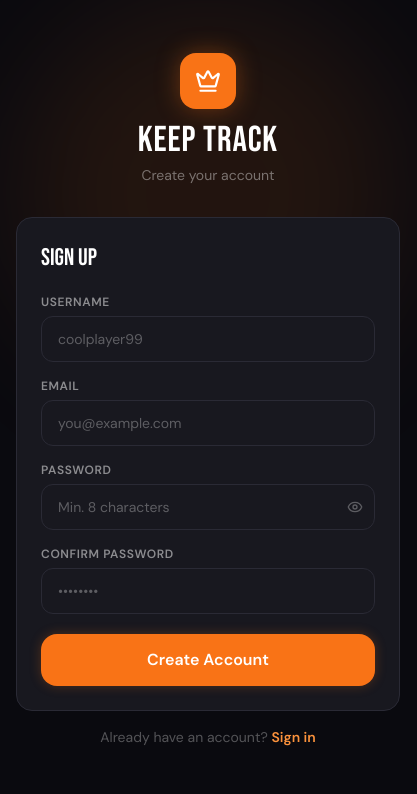
Scenario: RegisterPage › shows taken error when username exists
Type "taken" into the field with placeholder "coolplayer99".
click(208, 339); type("taken")  # box 41,316 -> 375,362
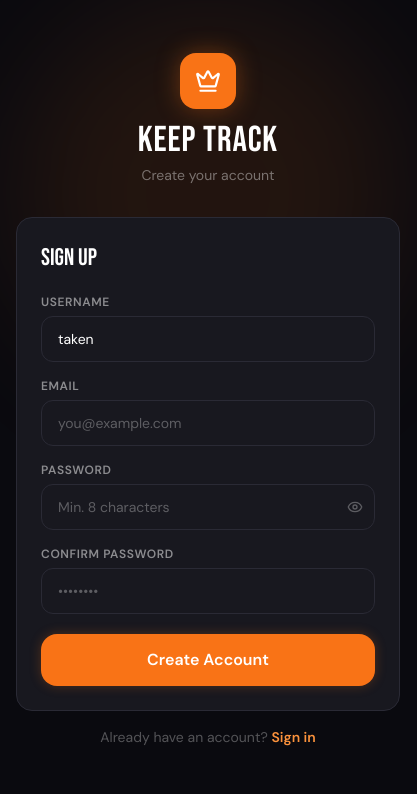
Type "t@t.com" into the field with placeholder "you@example.com".
click(208, 423); type("t@t.com")  # box 41,400 -> 375,446
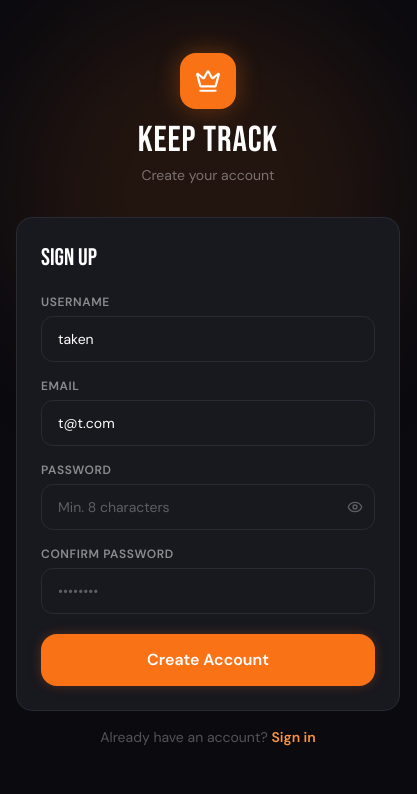
Type "password1" into the password field with placeholder "Min. 8 characters".
click(208, 507); type("password1")  # box 41,484 -> 375,530
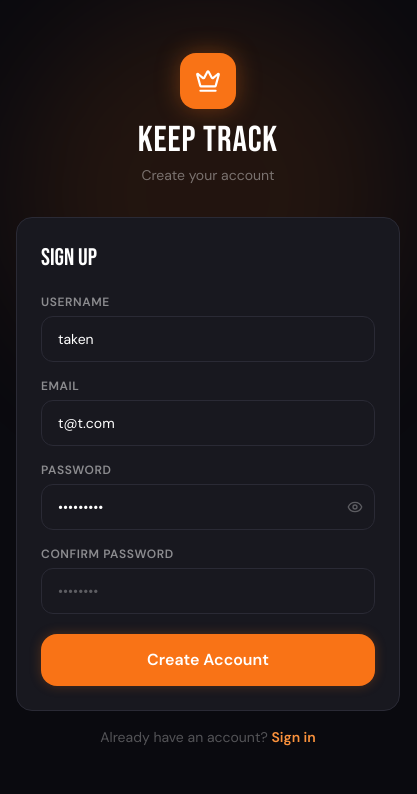
Type "password1" into the password field with placeholder "••••••••".
click(208, 591); type("password1")  # box 41,568 -> 375,614
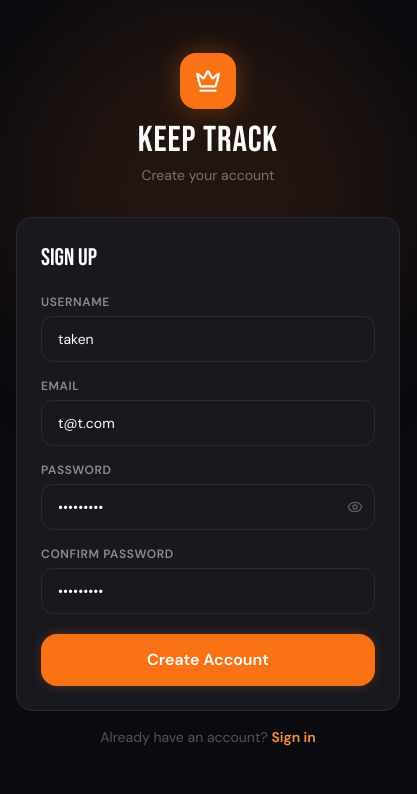
Click the button "Create Account".
click(208, 660)  # box 41,634 -> 375,686
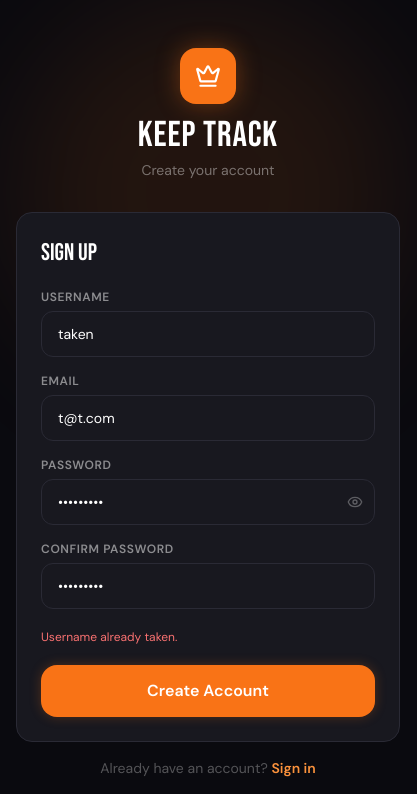
Expected: the text "Username already taken." is shown, 41,629 -> 177,645
